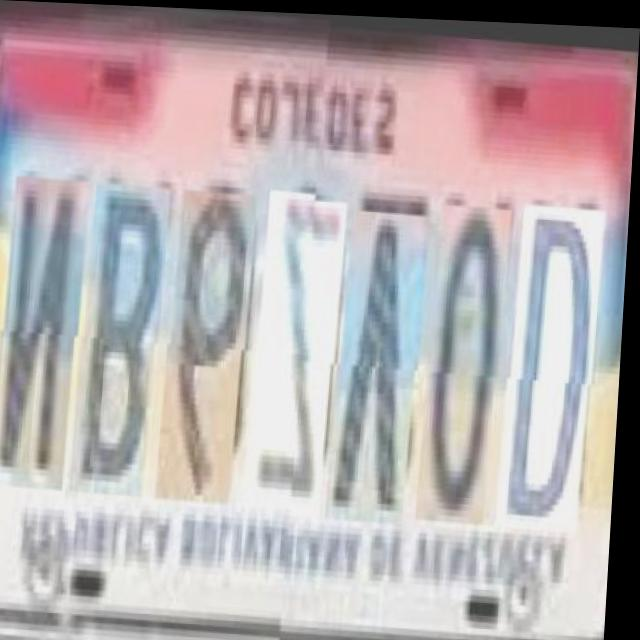6: (163, 186, 257, 501)
b: (77, 180, 171, 495)
d: (505, 188, 606, 516)
n: (0, 175, 90, 490)
o: (425, 191, 512, 511)
v: (333, 197, 431, 512)
z: (250, 185, 348, 506)
